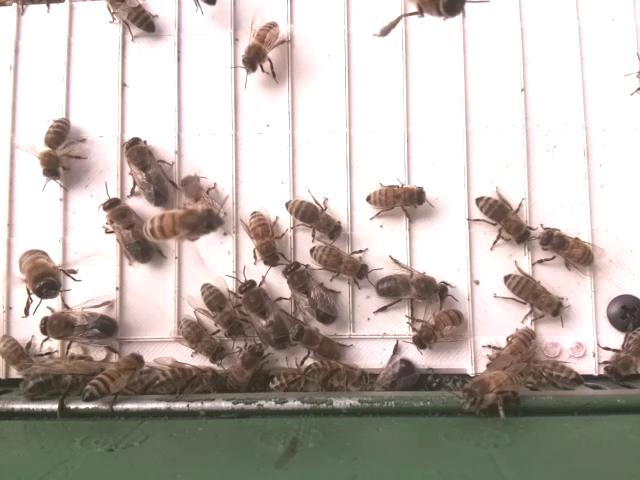Drone: (237, 278, 294, 352), (100, 195, 155, 267), (282, 259, 340, 327), (122, 133, 173, 209), (15, 243, 65, 303), (37, 309, 121, 343), (373, 271, 450, 306)
Worker: (83, 352, 144, 402), (501, 271, 566, 317), (474, 192, 530, 245), (282, 195, 343, 238), (287, 323, 348, 366), (486, 326, 538, 375), (540, 227, 598, 269), (200, 280, 242, 337), (38, 115, 73, 183), (363, 181, 430, 216), (241, 21, 284, 75), (142, 210, 216, 241), (175, 316, 227, 360), (246, 208, 281, 271), (309, 243, 370, 279), (411, 309, 465, 348), (0, 329, 34, 378), (109, 0, 157, 34)
